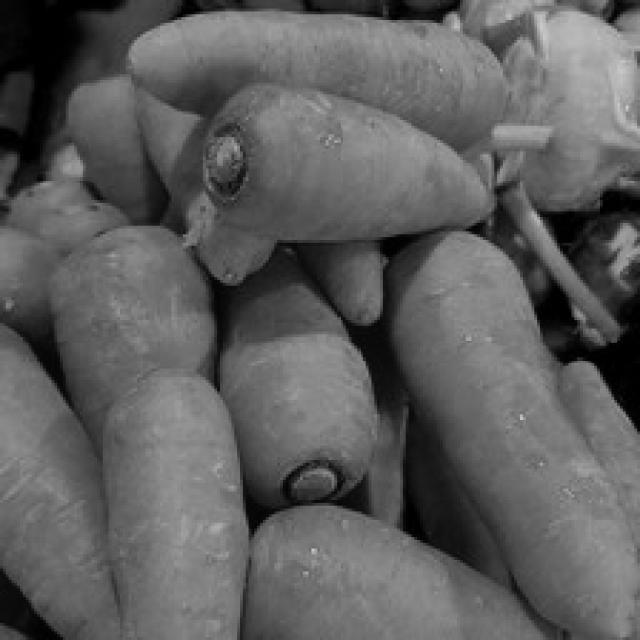Fresh_Carrot: (392, 226, 637, 640), (213, 82, 500, 236), (109, 377, 238, 640)
